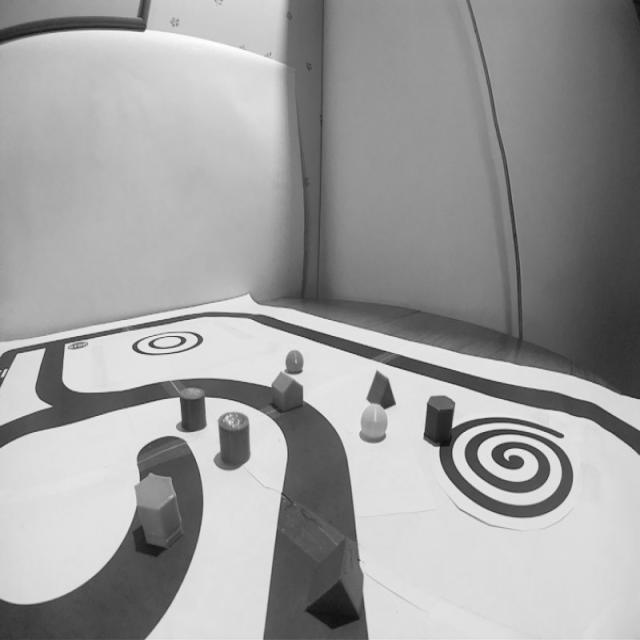ball: (360, 404, 388, 441), (284, 350, 304, 374)
cockade: (133, 330, 202, 356)
cylinder: (217, 411, 251, 467), (178, 387, 206, 431)
hexagon: (134, 472, 184, 551), (424, 396, 456, 445)
home: (271, 371, 304, 413)
lineStraight: (258, 485, 376, 638)
nest: (439, 414, 576, 520)
triangle: (307, 537, 364, 625), (365, 369, 397, 409)
